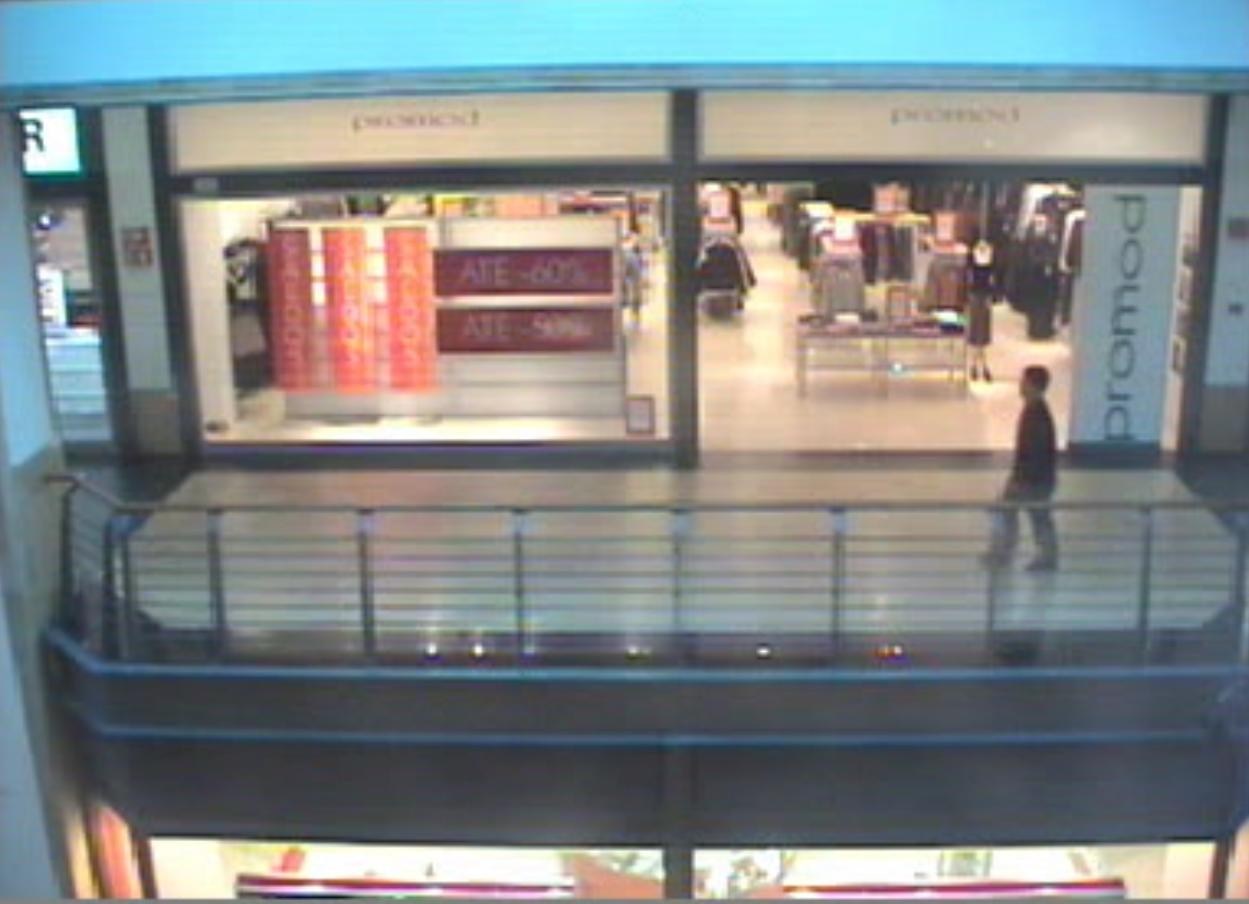person: (984, 344, 1074, 578)
